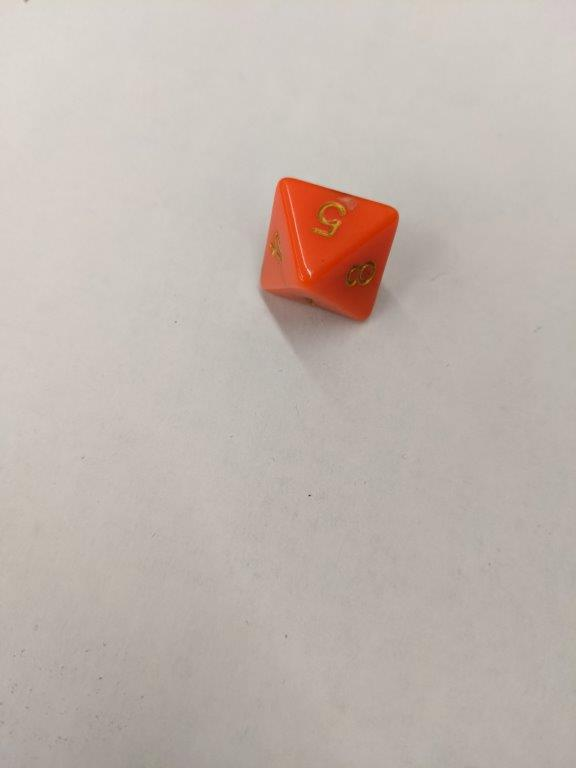d8-5: (258, 176, 404, 325)
